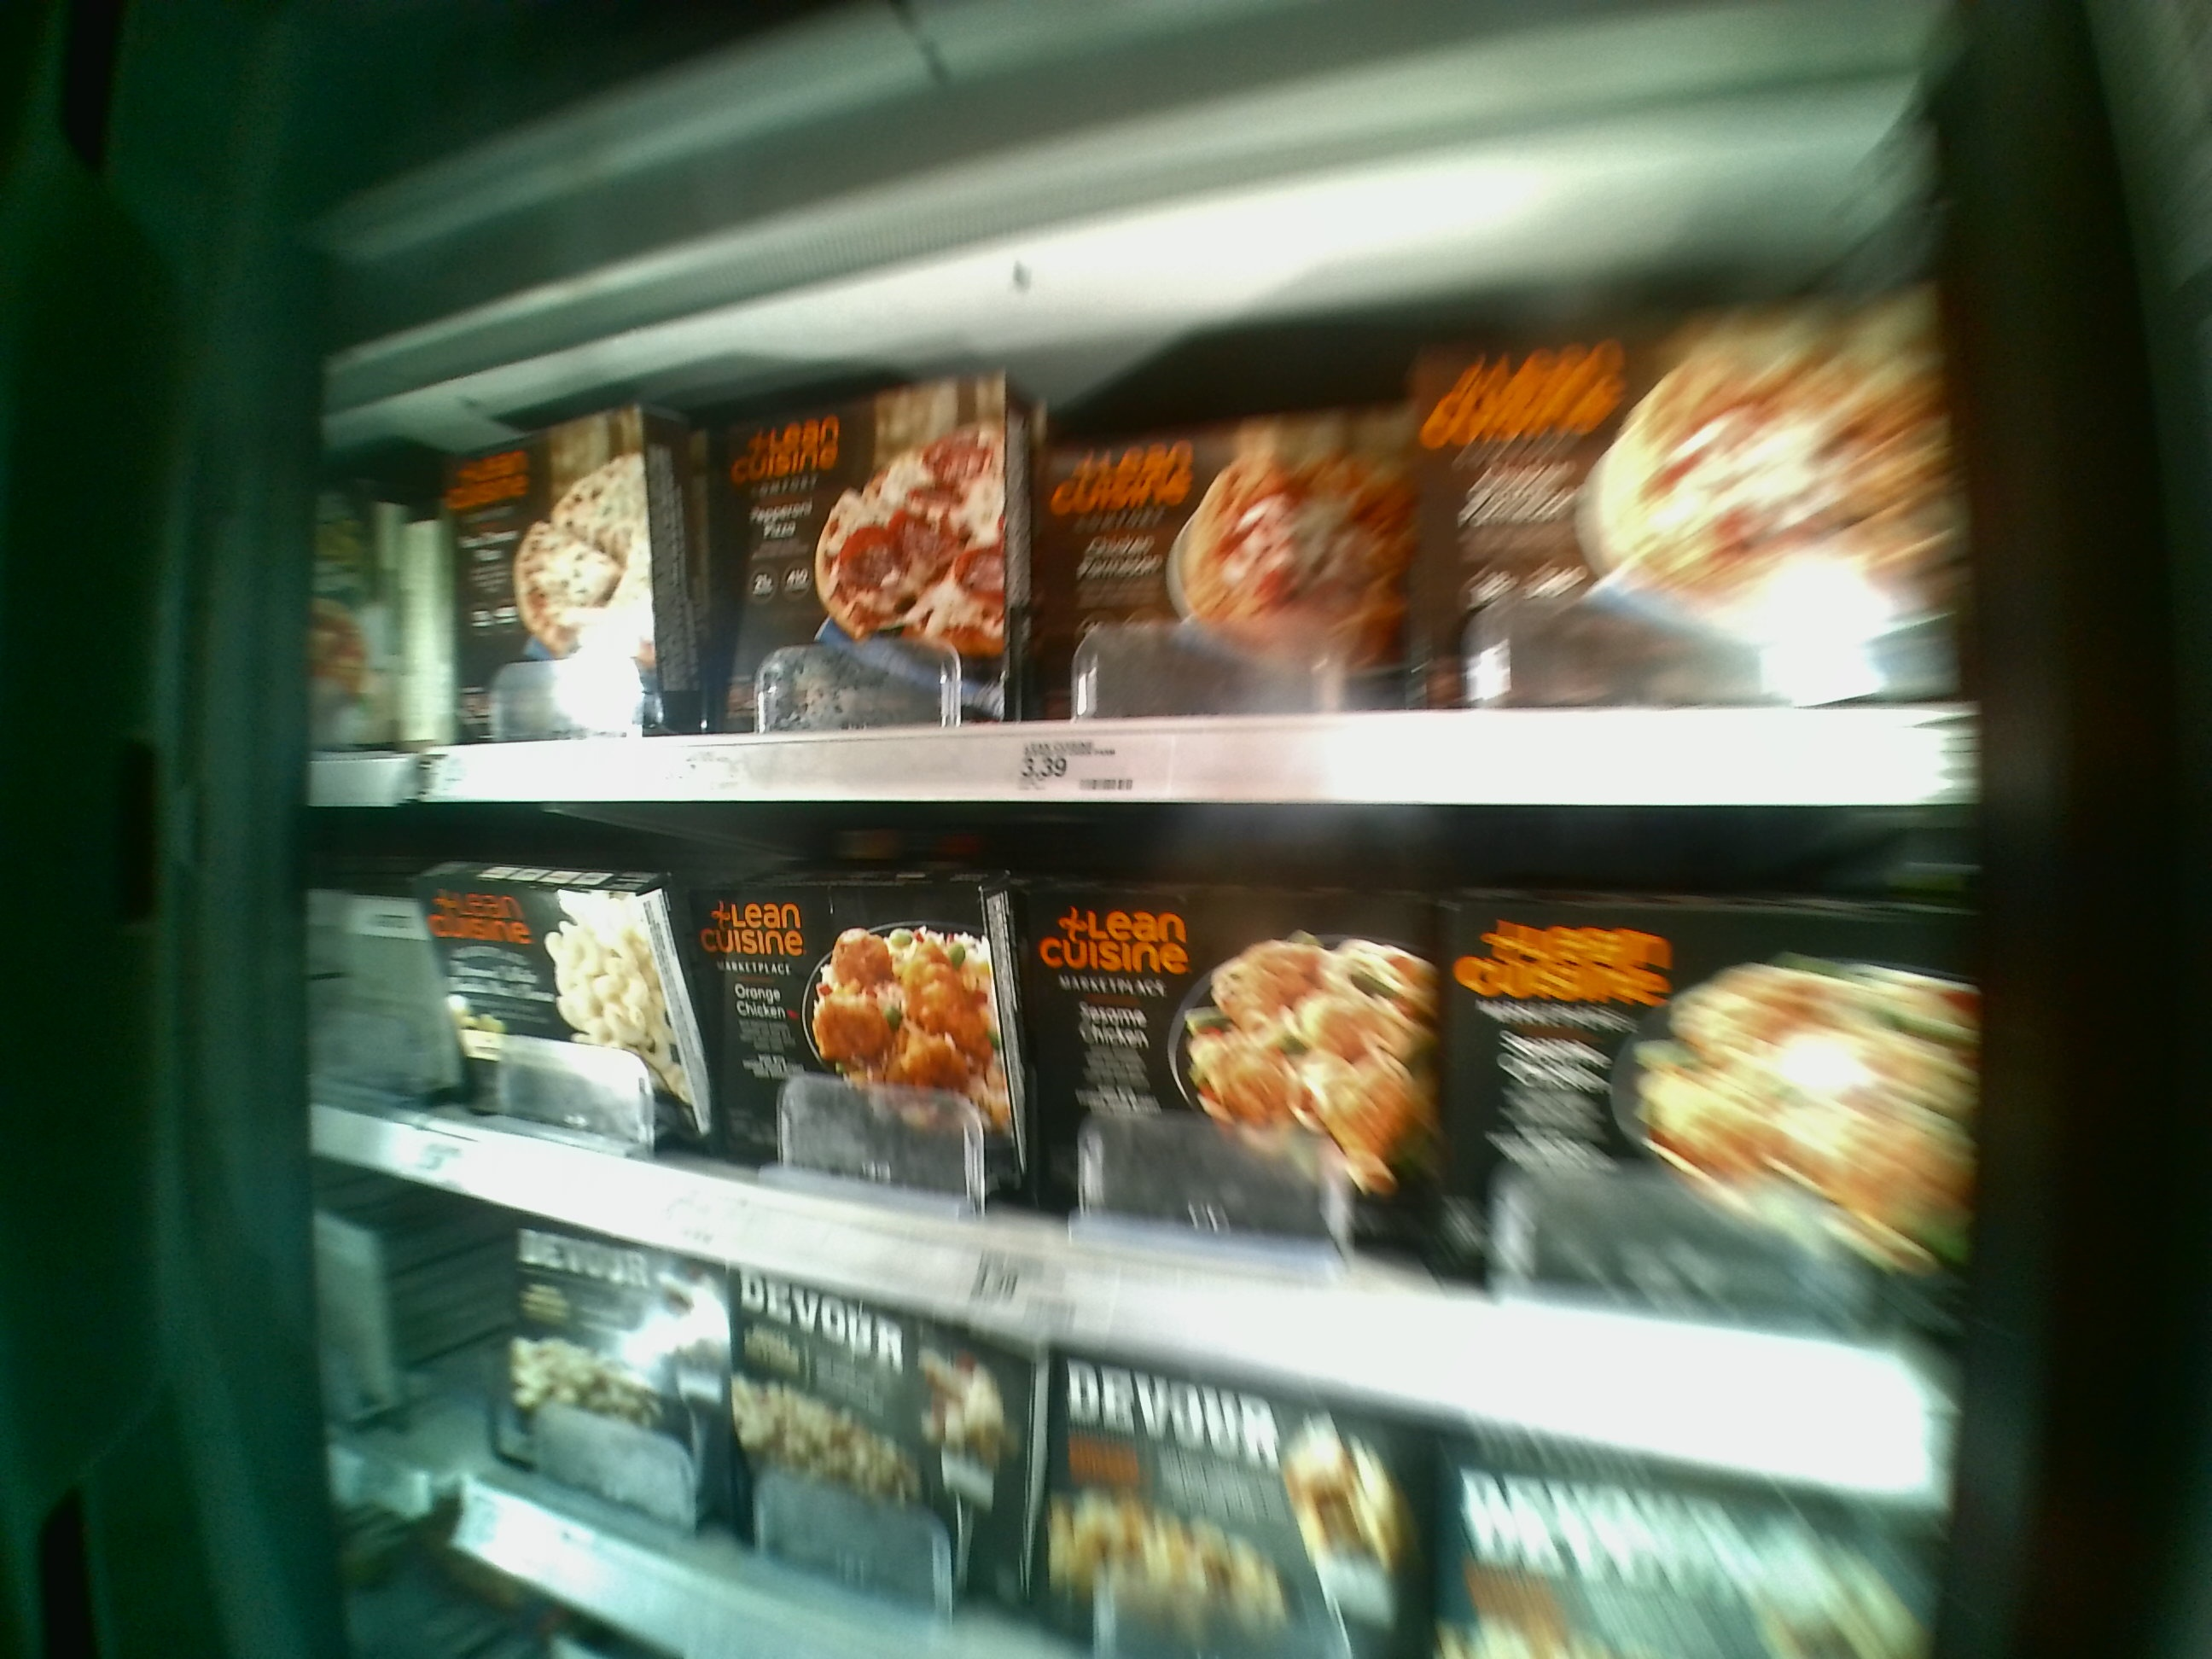shelf: (315, 211, 1951, 802)
